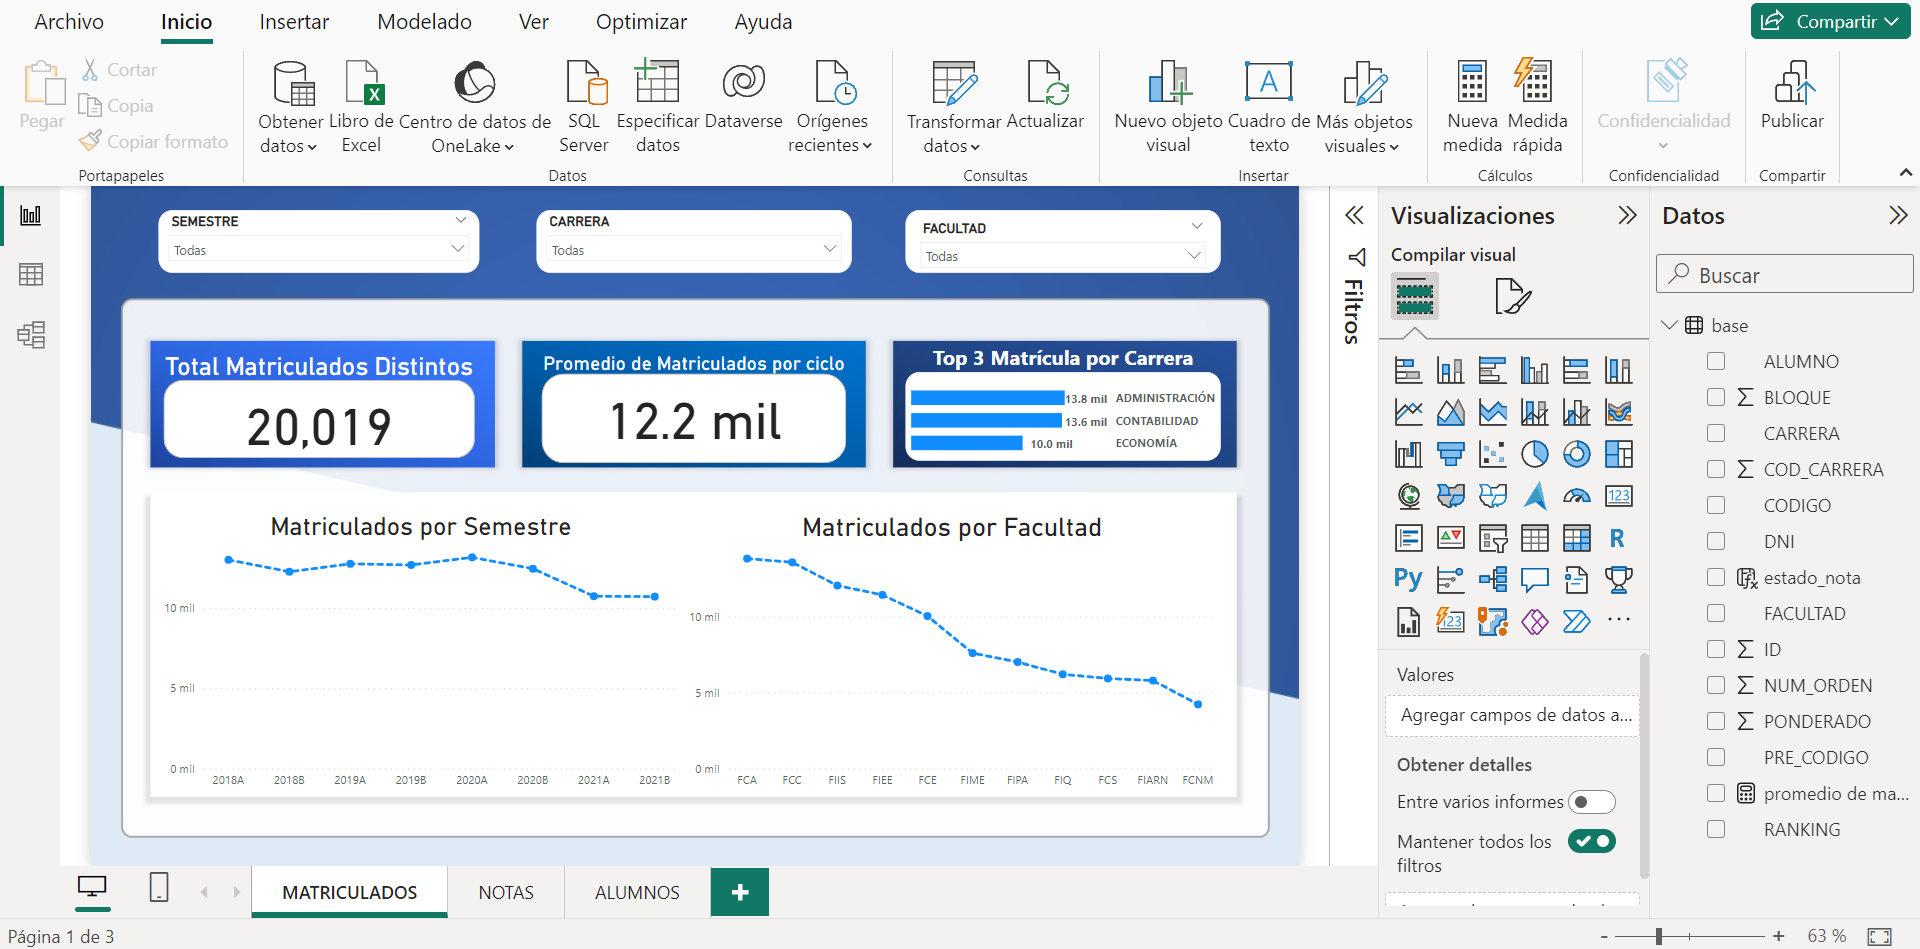

What the dashboard file says about the page in this screenshot:
{"tool":"powerbi","page":{"name":"MATRICULADOS","canvas":[1280,720],"ordinal":0},"visuals":[{"type":"cardVisual","title":"Total Matriculados Distintos","fields":{"Data":["Count(base.ALUMNO)"]},"box":[71.5,170.1,340.1,124],"z":0},{"type":"lineChart","title":"Matriculados por Facultad","fields":{"Category":["base.FACULTAD"],"Y":["CountNonNull(base.ALUMNO)"]},"box":[627.8,344.9,569,302],"z":1000},{"type":"slicer","fields":{"Values":["base.RANKING"]},"box":[71.5,25.4,340.1,66.8],"z":2000},{"type":"cardVisual","title":"Promedio de Matriculados por ciclo","fields":{"Data":["base.Recuento de ALUMNO dividido por Recuento de RANKING"]},"box":[472.1,170.1,333.8,128.7],"z":3000},{"type":"slicer","fields":{"Values":["base.CARRERA"]},"box":[472.1,25.4,333.8,66.8],"z":4000},{"type":"slicer","fields":{"Values":["base.FACULTAD"]},"box":[863,25.4,333.8,66.8],"z":5000},{"type":"lineChart","title":"Matriculados por Semestre","fields":{"Y":["Count(base.ALUMNO)"],"Category":["base.RANKING"]},"box":[71.5,344.9,556.3,302],"z":6000},{"type":"clusteredBarChart","title":"Top 3 Matricula por Carrera","fields":{"Category":["base.CARRERA"],"Y":["CountNonNull(base.ALUMNO)"]},"box":[863,197.1,333.8,93.8],"z":7000},{"type":"textbox","box":[826.5,160.5,406.9,42.9],"z":8000}]}

Visuals, with their boxes on the page's 1280x720 design canvas (x1, y1, x2, y2). These are canvas units, not pixel positions in the 1920x949 screenshot, which may show the page scaled, cropped or inside an application window:
"Total Matriculados Distintos" cardVisual: (left=72, top=170, right=412, bottom=294)
"Matriculados por Facultad" lineChart: (left=628, top=345, right=1197, bottom=647)
slicer - base.RANKING: (left=72, top=25, right=412, bottom=92)
"Promedio de Matriculados por ciclo" cardVisual: (left=472, top=170, right=806, bottom=299)
slicer - base.CARRERA: (left=472, top=25, right=806, bottom=92)
slicer - base.FACULTAD: (left=863, top=25, right=1197, bottom=92)
"Matriculados por Semestre" lineChart: (left=72, top=345, right=628, bottom=647)
"Top 3 Matricula por Carrera" clusteredBarChart: (left=863, top=197, right=1197, bottom=291)
textbox: (left=826, top=160, right=1233, bottom=203)
